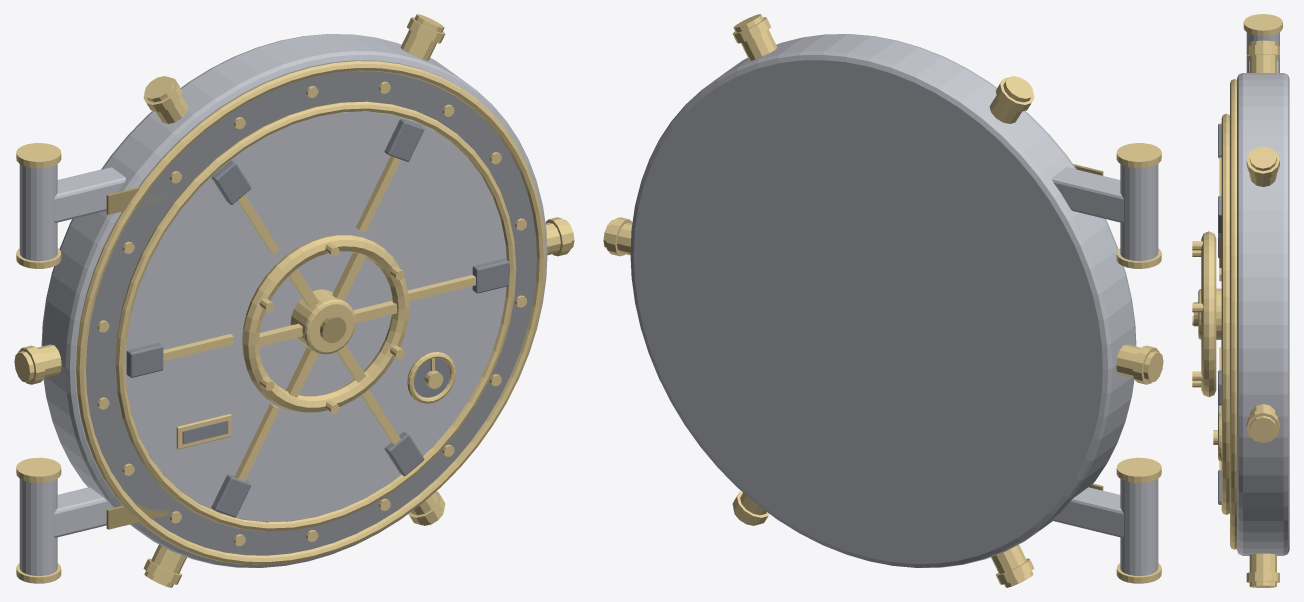
File: prop_vault_door.glb
The picture shows the model from 3 angles, left to right: view 1: azimuth 30°, elevation 25°; view 2: azimuth 150°, elevation 25°; view 3: azimuth 270°, elevation 25°; orthographic projection. The views are drawn at different scales.
Visible parts, largest first — view 1: Door, Bolt3, Bolt2, Bolt1, Bolt4, Bolt0, Bolt5; view 2: Door, Bolt3, Bolt2, Bolt1, Bolt4, Bolt0, Bolt5; view 3: Door, Bolt1, Bolt0, Bolt5, Bolt2.
Boxes of the visible parts, box(x1,y1,x2,y2) form: Door: box(16, 34, 547, 583); Bolt3: box(14, 344, 61, 384); Bolt2: box(143, 76, 188, 123); Bolt1: box(400, 14, 445, 60); Bolt4: box(143, 544, 186, 587); Bolt0: box(545, 217, 574, 256); Bolt5: box(408, 491, 445, 525); Door: box(630, 34, 1161, 583); Bolt3: box(1116, 344, 1163, 384); Bolt2: box(989, 76, 1034, 123); Bolt1: box(732, 14, 777, 60); Bolt4: box(991, 544, 1034, 587); Bolt0: box(603, 217, 632, 256); Bolt5: box(732, 491, 769, 525); Door: box(1192, 14, 1289, 555); Bolt1: box(1246, 146, 1279, 186); Bolt0: box(1246, 404, 1279, 442); Bolt5: box(1246, 553, 1279, 587); Bolt2: box(1246, 40, 1279, 72).
Size of the model in its own units: 3.64 by 3.23 by 0.645.
